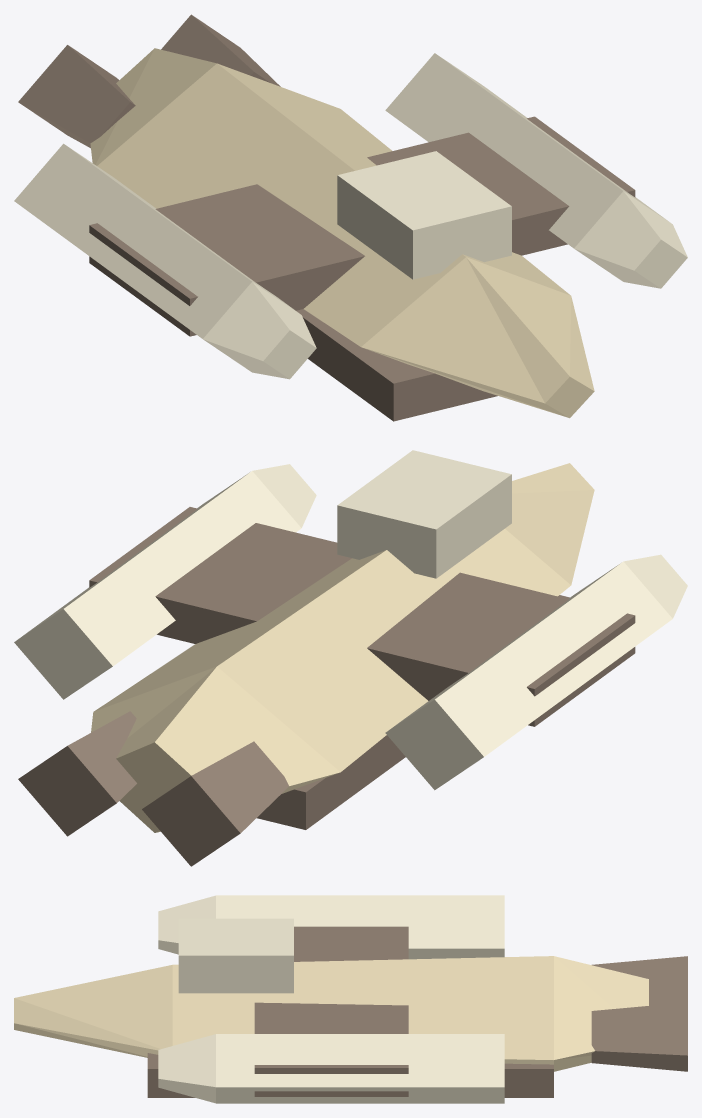
The picture shows the model from 3 angles, top to bottom: view 1: azimuth 30°, elevation 25°; view 2: azimuth 150°, elevation 25°; view 3: azimuth 270°, elevation 25°; orthographic projection. The views are drawn at different scales.
Bounding box in the file's own units: 4.83 × 1.73 × 7.84.
